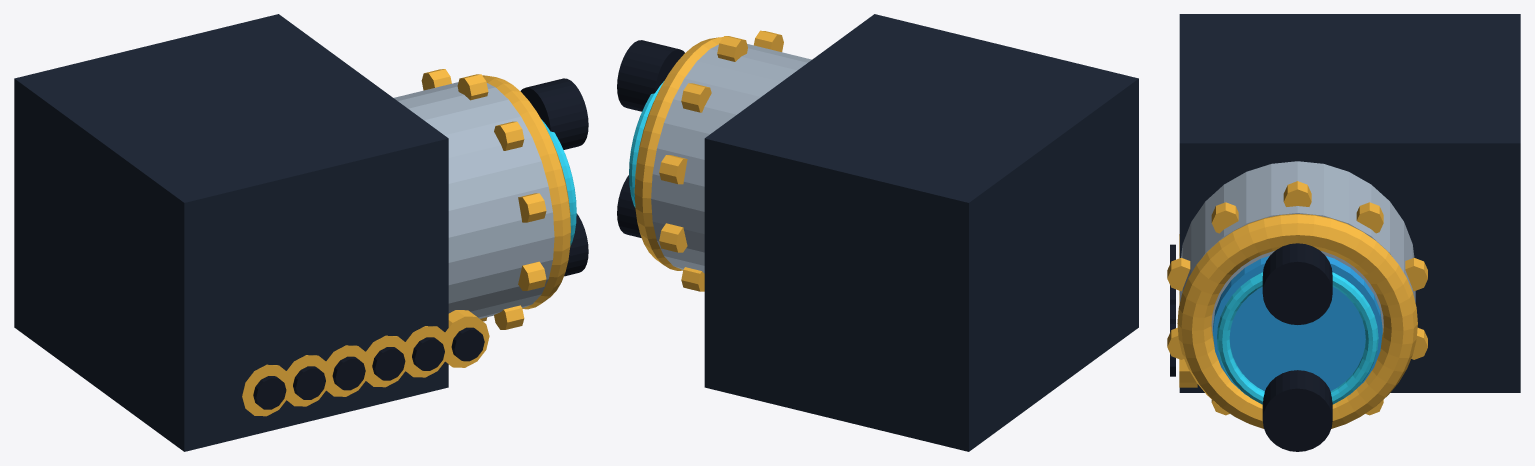
The model's file is 42_L85_OpticalTargetPatternTracker.fbx.
The picture shows the model from 3 angles, left to right: view 1: azimuth 30°, elevation 25°; view 2: azimuth 150°, elevation 25°; view 3: azimuth 270°, elevation 25°; orthographic projection.
Parts seen in each view (by area): view 1: L85_OpticalTargetPatternTracker_Part_0000, L85_OpticalTargetPatternTracker_Part_0001, L85_OpticalTargetPatternTracker_Part_0002, L85_OpticalTargetPatternTracker_Part_0005, L85_OpticalTargetPatternTracker_Part_0016, L85_OpticalTargetPatternTracker_Part_0006, L85_OpticalTargetPatternTracker_Part_0010, L85_OpticalTargetPatternTracker_Part_0012, L85_OpticalTargetPatternTracker_Part_0008, L85_OpticalTargetPatternTracker_Part_0014, L85_OpticalTargetPatternTracker_Part_0011, L85_OpticalTargetPatternTracker_Part_0017 (+5 smaller); view 2: L85_OpticalTargetPatternTracker_Part_0000, L85_OpticalTargetPatternTracker_Part_0001, L85_OpticalTargetPatternTracker_Part_0002, L85_OpticalTargetPatternTracker_Part_0005, L85_OpticalTargetPatternTracker_Part_0004; view 3: L85_OpticalTargetPatternTracker_Part_0000, L85_OpticalTargetPatternTracker_Part_0002, L85_OpticalTargetPatternTracker_Part_0003, L85_OpticalTargetPatternTracker_Part_0001, L85_OpticalTargetPatternTracker_Part_0005, L85_OpticalTargetPatternTracker_Part_0004, L85_OpticalTargetPatternTracker_Part_0016.
Boxes of the visible parts, box(x1,y1,x2,y2) form: L85_OpticalTargetPatternTracker_Part_0000: box(14, 14, 448, 451); L85_OpticalTargetPatternTracker_Part_0001: box(394, 82, 554, 318); L85_OpticalTargetPatternTracker_Part_0002: box(421, 69, 570, 329); L85_OpticalTargetPatternTracker_Part_0005: box(520, 78, 588, 276); L85_OpticalTargetPatternTracker_Part_0016: box(442, 310, 489, 367); L85_OpticalTargetPatternTracker_Part_0006: box(242, 364, 291, 416); L85_OpticalTargetPatternTracker_Part_0010: box(323, 345, 370, 396); L85_OpticalTargetPatternTracker_Part_0012: box(363, 335, 410, 387); L85_OpticalTargetPatternTracker_Part_0008: box(284, 355, 329, 406); L85_OpticalTargetPatternTracker_Part_0014: box(405, 326, 448, 377); L85_OpticalTargetPatternTracker_Part_0011: box(332, 356, 365, 390); L85_OpticalTargetPatternTracker_Part_0017: box(451, 327, 484, 361); L85_OpticalTargetPatternTracker_Part_0000: box(704, 14, 1138, 451); L85_OpticalTargetPatternTracker_Part_0001: box(651, 44, 811, 273); L85_OpticalTargetPatternTracker_Part_0002: box(634, 30, 783, 291); L85_OpticalTargetPatternTracker_Part_0005: box(617, 40, 684, 237); L85_OpticalTargetPatternTracker_Part_0004: box(629, 81, 663, 207); L85_OpticalTargetPatternTracker_Part_0000: box(1179, 14, 1520, 392); L85_OpticalTargetPatternTracker_Part_0002: box(1167, 181, 1427, 428); L85_OpticalTargetPatternTracker_Part_0003: box(1213, 256, 1382, 395); L85_OpticalTargetPatternTracker_Part_0001: box(1179, 161, 1415, 334); L85_OpticalTargetPatternTracker_Part_0005: box(1262, 243, 1332, 451); L85_OpticalTargetPatternTracker_Part_0004: box(1217, 272, 1378, 404); L85_OpticalTargetPatternTracker_Part_0016: box(1179, 359, 1197, 387).
Size of the model in its own units: 118 by 63 by 80.83.
